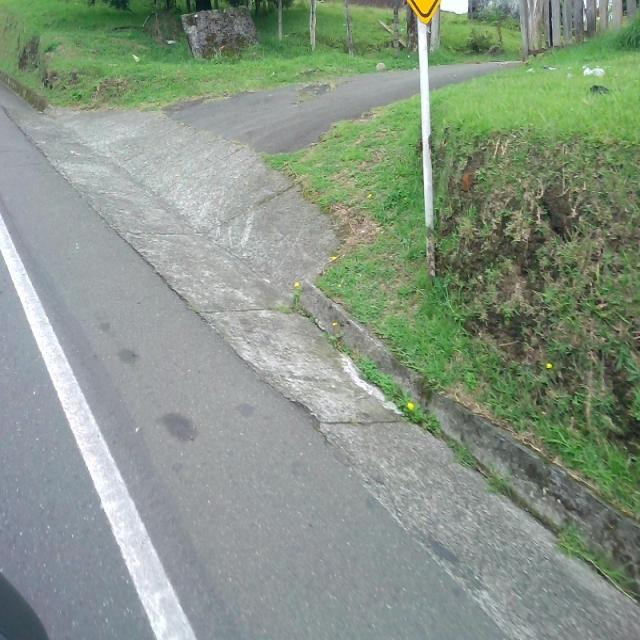DITCH: (2, 79, 638, 638)
